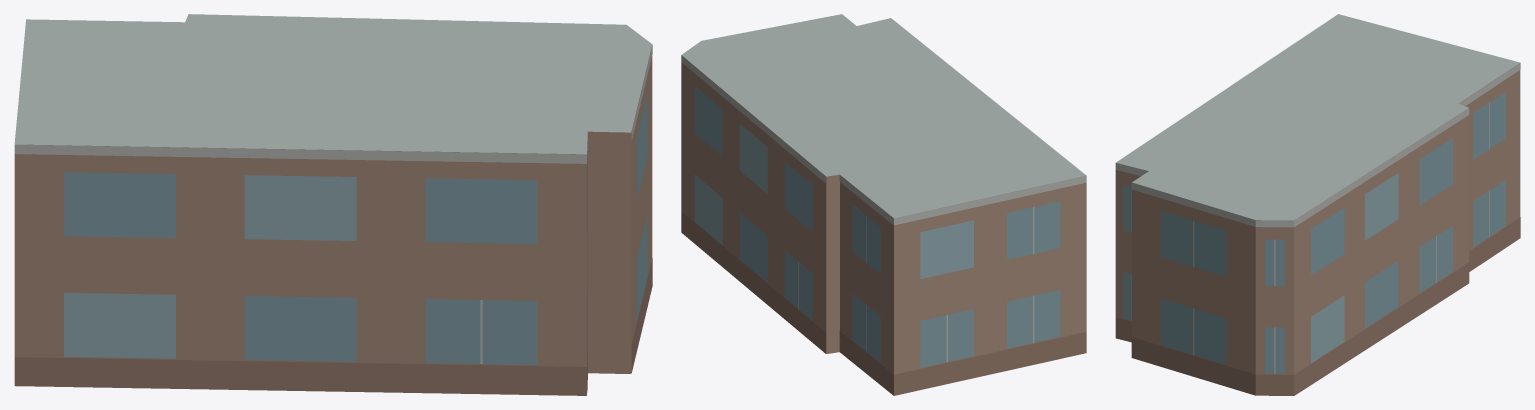
Rendered from survey-upis-32659965.glb.
3 renders of one model, left to right at view 1: azimuth 30°, elevation 25°; view 2: azimuth 150°, elevation 25°; view 3: azimuth 270°, elevation 25°, orthographic. The views are drawn at different scales.
Parts seen in each view (by area): view 1: survey-upis-32659965.tmp; view 2: survey-upis-32659965.tmp; view 3: survey-upis-32659965.tmp.
Part boxes in pixels (x1,y1,x2,y2): survey-upis-32659965.tmp: (14, 14, 652, 395); survey-upis-32659965.tmp: (681, 14, 1086, 395); survey-upis-32659965.tmp: (1115, 14, 1520, 395).
Bounding box in the file's own units: 15.39 × 6.1 × 12.76.
